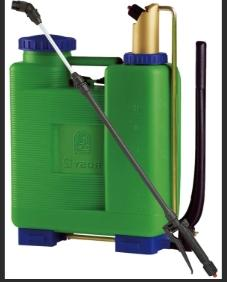PULVERISATEUR: (0, 0, 222, 282)
